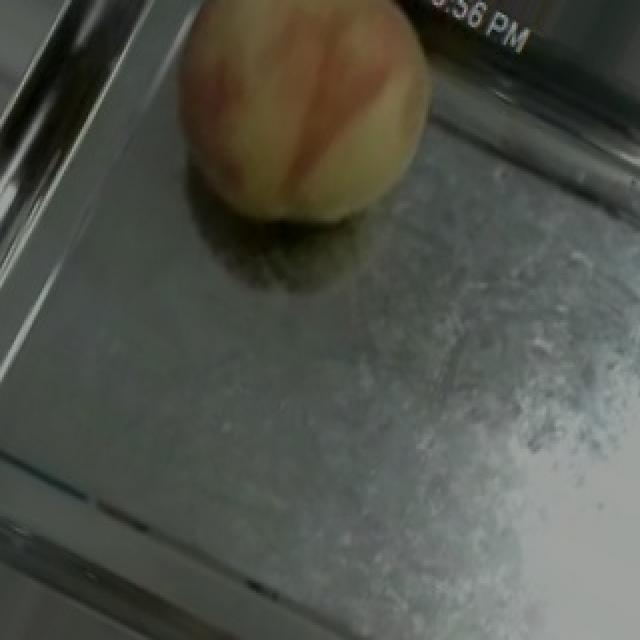Fruit: (126, 0, 464, 290)
